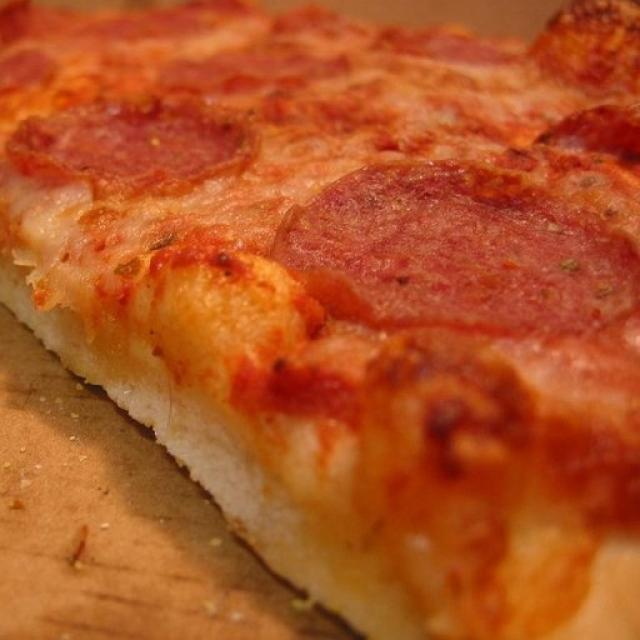Pepperoni: (300, 160, 638, 333), (13, 107, 249, 197)
Pizza: (0, 0, 640, 640)
